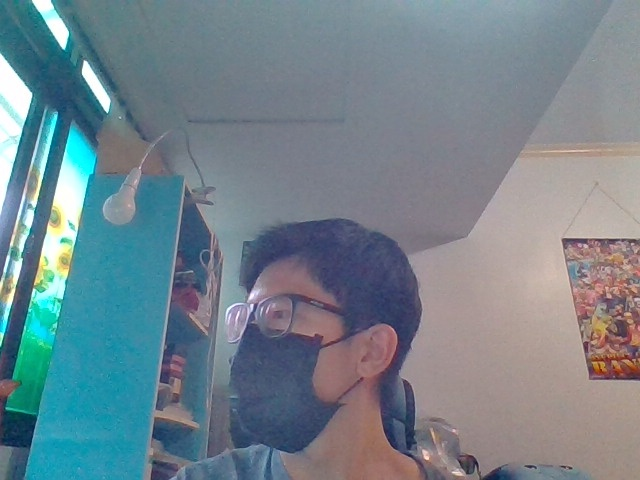Mask: (227, 324, 398, 454)
